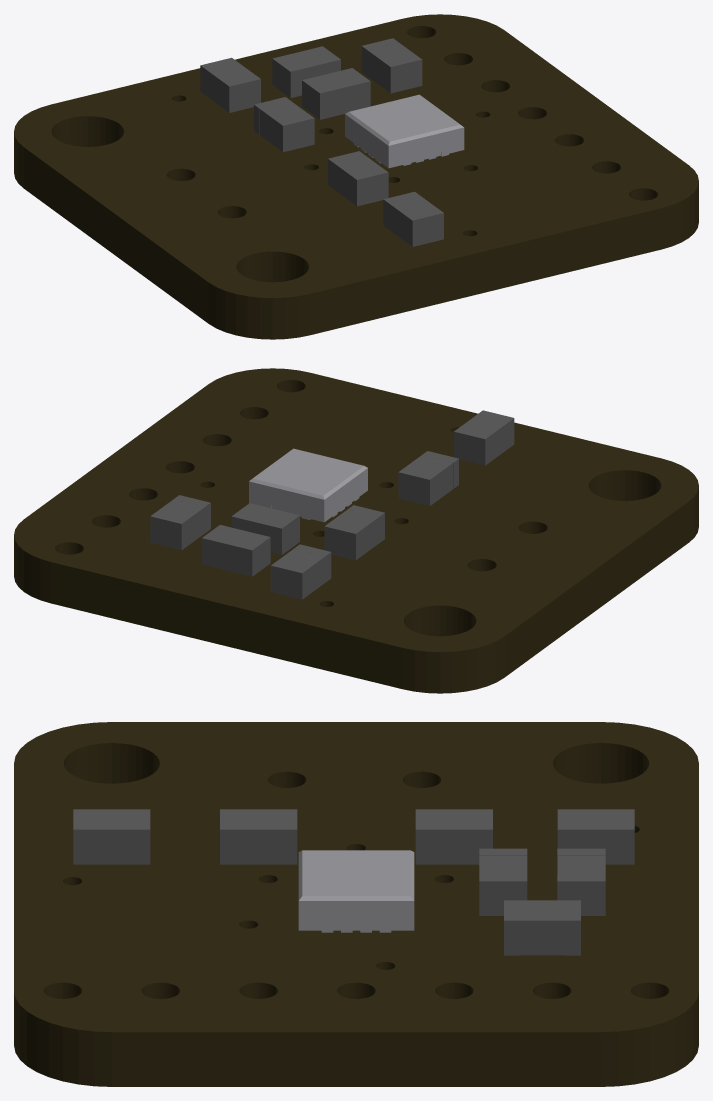
The model's file is adafruit-max98357a.glb.
The picture shows the model from 3 angles, top to bottom: view 1: azimuth 30°, elevation 25°; view 2: azimuth 150°, elevation 25°; view 3: azimuth 270°, elevation 25°; orthographic projection. The views are drawn at different scales.
Parts seen in each view (by area): view 1: adafruit-max98357a; view 2: adafruit-max98357a; view 3: adafruit-max98357a.
Part boxes in pixels (<box>): adafruit-max98357a: <box>14,14,698,339</box>; adafruit-max98357a: <box>14,368,698,693</box>; adafruit-max98357a: <box>14,722,698,1086</box>.
Bounding box in the file's own units: 19.05 × 2.57 × 17.78.
